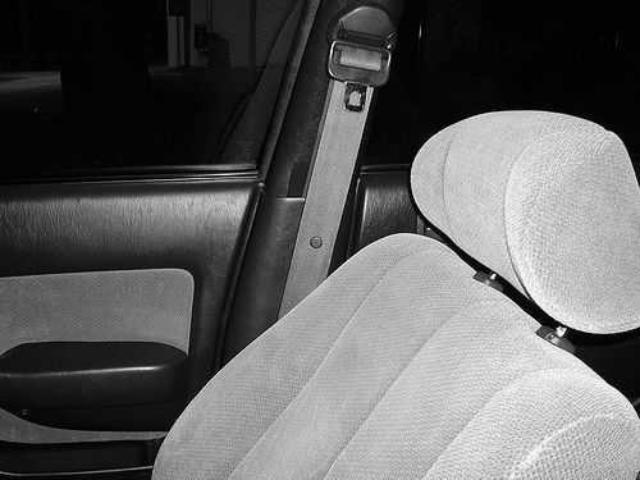Seatbelt: (271, 0, 401, 328)
